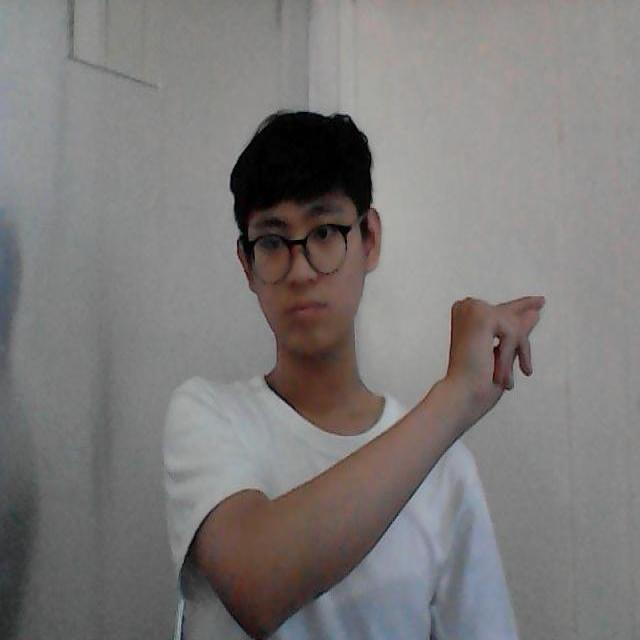R: (423, 273, 564, 458)
